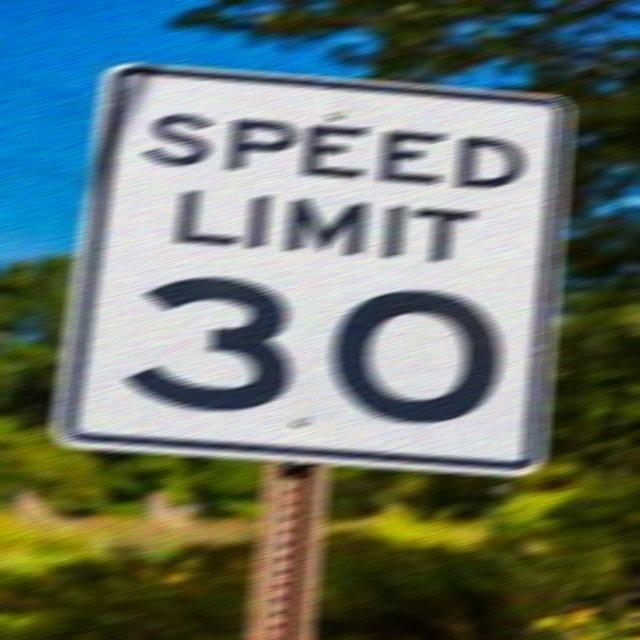speedLimit30: (50, 88, 593, 454)
